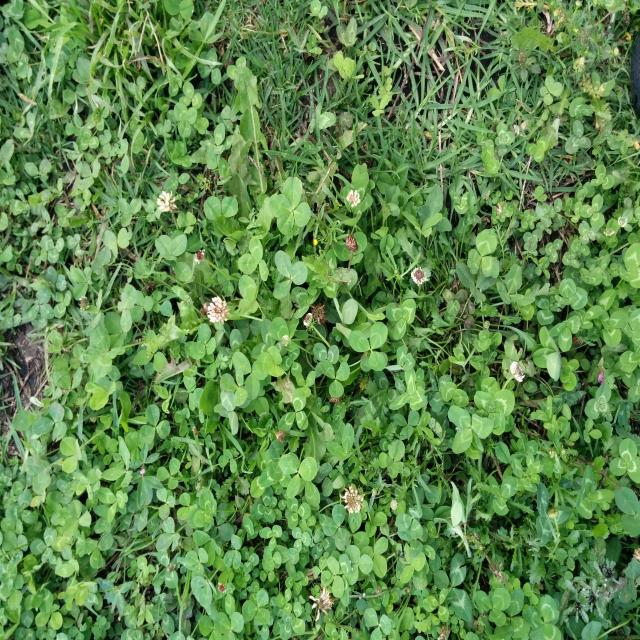Four Leaf Clover: (268, 177, 311, 235)
